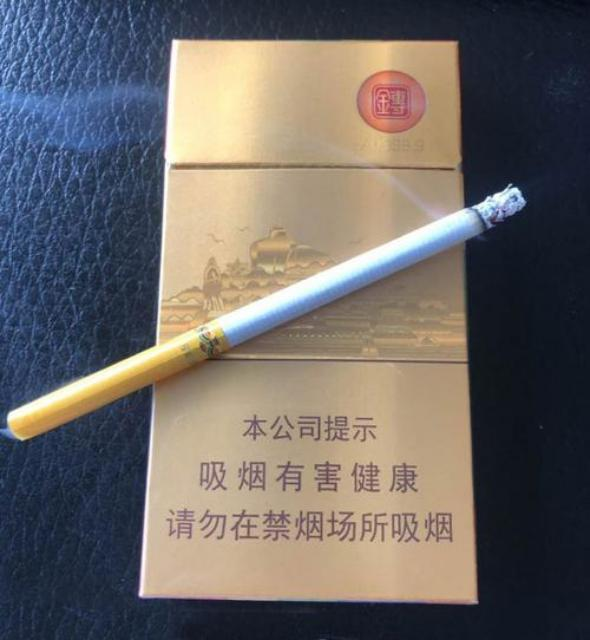Smoking: (8, 185, 528, 439)
